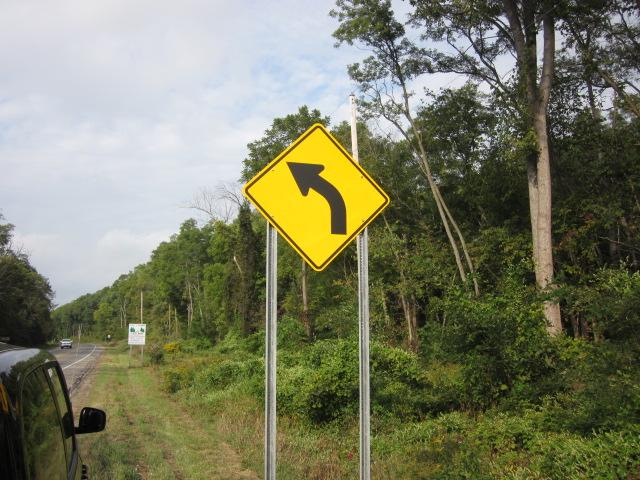warning: (247, 123, 392, 274)
